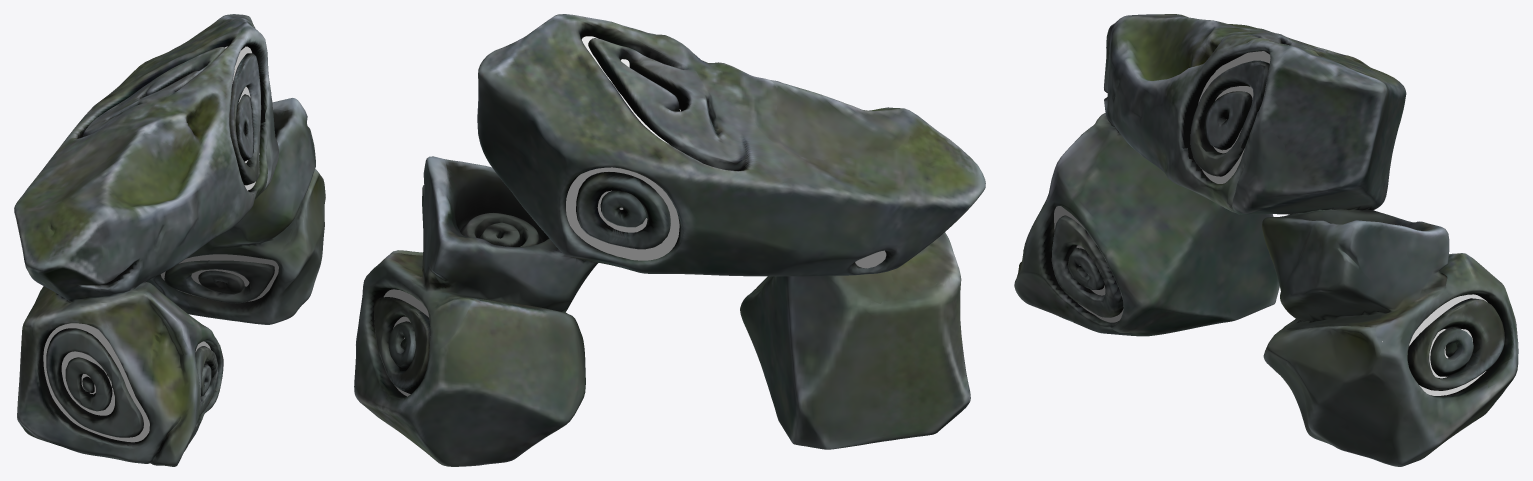
Rendered from Stone8.fbx.
3 views of the same model, side by side, from view 1: azimuth 30°, elevation 25°; view 2: azimuth 150°, elevation 25°; view 3: azimuth 270°, elevation 25° (orthographic). The views are drawn at different scales.
Visible parts, largest first — view 1: Stone8, Plane.004, Plane.006; view 2: Stone8, Plane.002; view 3: Stone8, Plane.005, Plane.
Boxes of the visible parts, left/top/right/bottom form: Stone8: left=14, top=14, right=325, bottom=466; Plane.004: left=43, top=323, right=149, bottom=442; Plane.006: left=160, top=254, right=278, bottom=301; Stone8: left=354, top=14, right=985, bottom=466; Plane.002: left=566, top=167, right=679, bottom=260; Stone8: left=1014, top=14, right=1518, bottom=466; Plane.005: left=1054, top=206, right=1487, bottom=395; Plane: left=1198, top=51, right=1270, bottom=183.
Size of the model in its own units: 275 by 207 by 261.
Materials: 1 (1 with a texture image).
